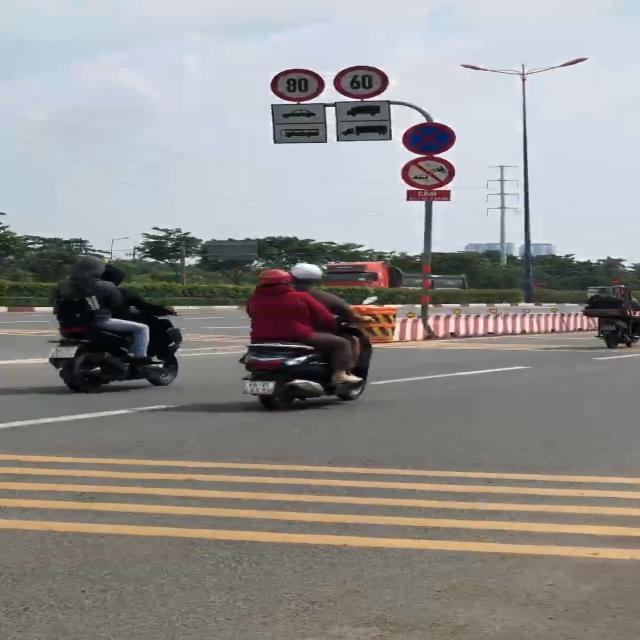Bien bao cam dung xe va do xe: (398, 122, 462, 158)
Bien bao toc do toi da cho phep: (329, 65, 392, 100), (270, 68, 326, 104)
